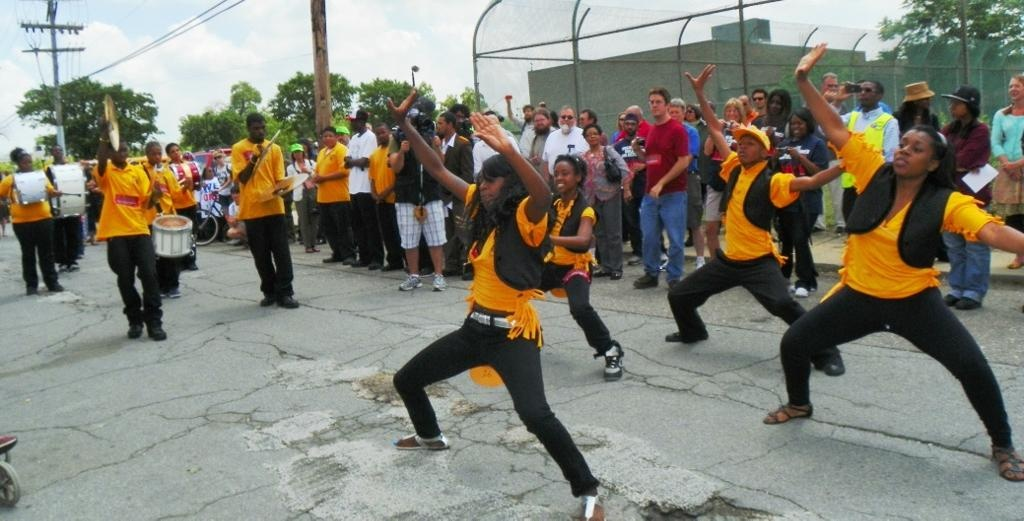human_face: (892, 130, 930, 174), (477, 169, 505, 207), (552, 160, 576, 192), (736, 136, 760, 162), (858, 82, 876, 106), (1008, 76, 1024, 100), (110, 142, 128, 162), (790, 114, 806, 136), (950, 96, 966, 118), (648, 93, 664, 114), (558, 107, 574, 126), (250, 121, 266, 138), (147, 146, 161, 164), (404, 116, 418, 134), (725, 104, 739, 122), (768, 93, 780, 114), (824, 76, 836, 96), (668, 105, 682, 122), (585, 128, 599, 144), (914, 95, 930, 109), (624, 110, 638, 126), (20, 155, 32, 171), (434, 117, 446, 133), (322, 130, 334, 145), (454, 108, 464, 126), (168, 146, 180, 160), (349, 116, 361, 130), (418, 125, 430, 139), (534, 114, 546, 128), (624, 118, 636, 132), (752, 93, 764, 107), (376, 126, 386, 142), (738, 99, 750, 111), (52, 144, 62, 158), (579, 112, 589, 126), (84, 161, 94, 173), (292, 148, 302, 160), (298, 141, 308, 153), (684, 106, 694, 118), (230, 190, 240, 200), (618, 114, 628, 124), (336, 133, 344, 145), (205, 168, 213, 178), (222, 148, 232, 156), (362, 123, 370, 133), (522, 107, 530, 117), (214, 155, 222, 163), (184, 152, 190, 160)
